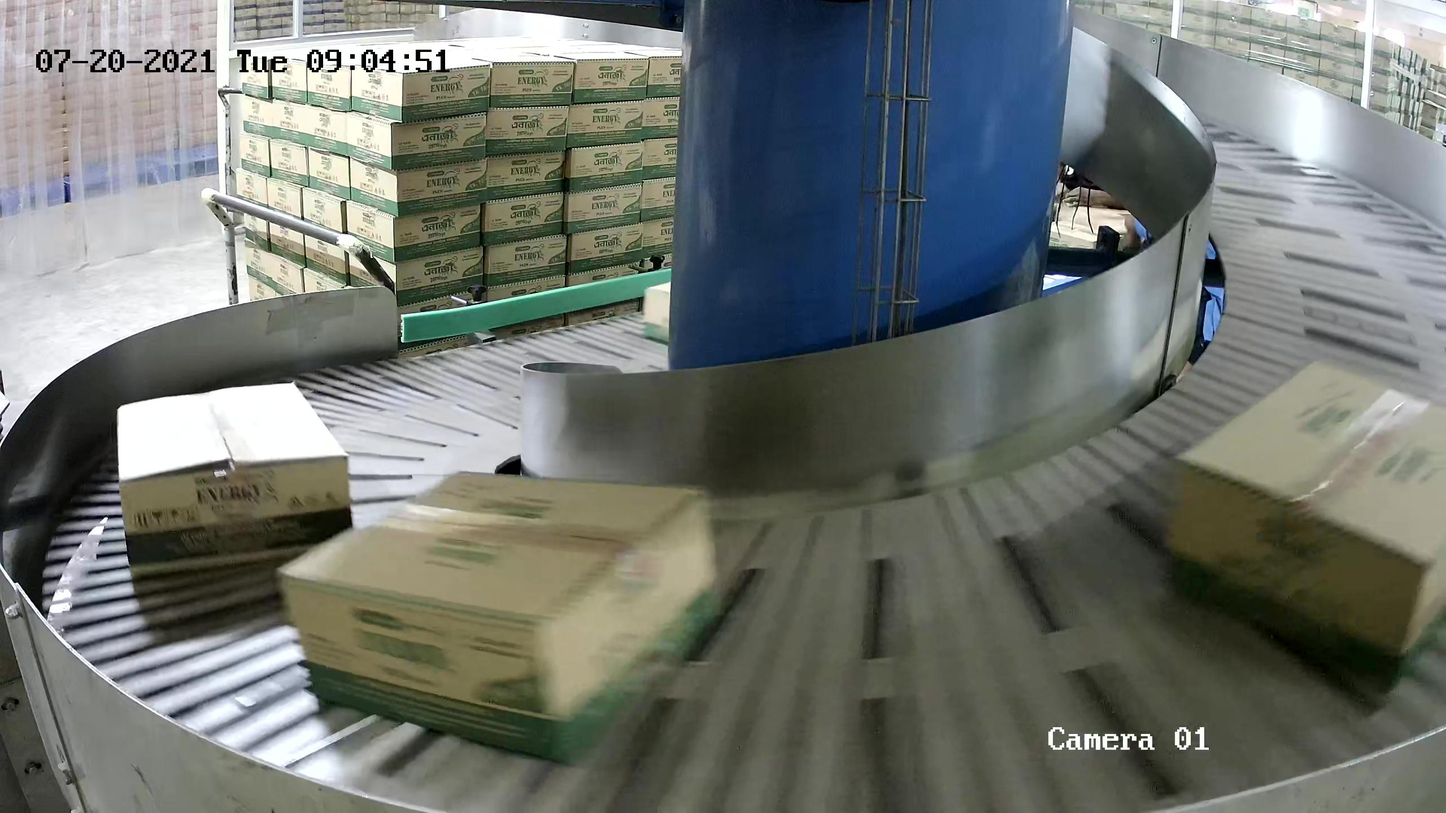Box: (277, 468, 730, 770), (1159, 353, 1446, 711), (116, 382, 359, 582)
